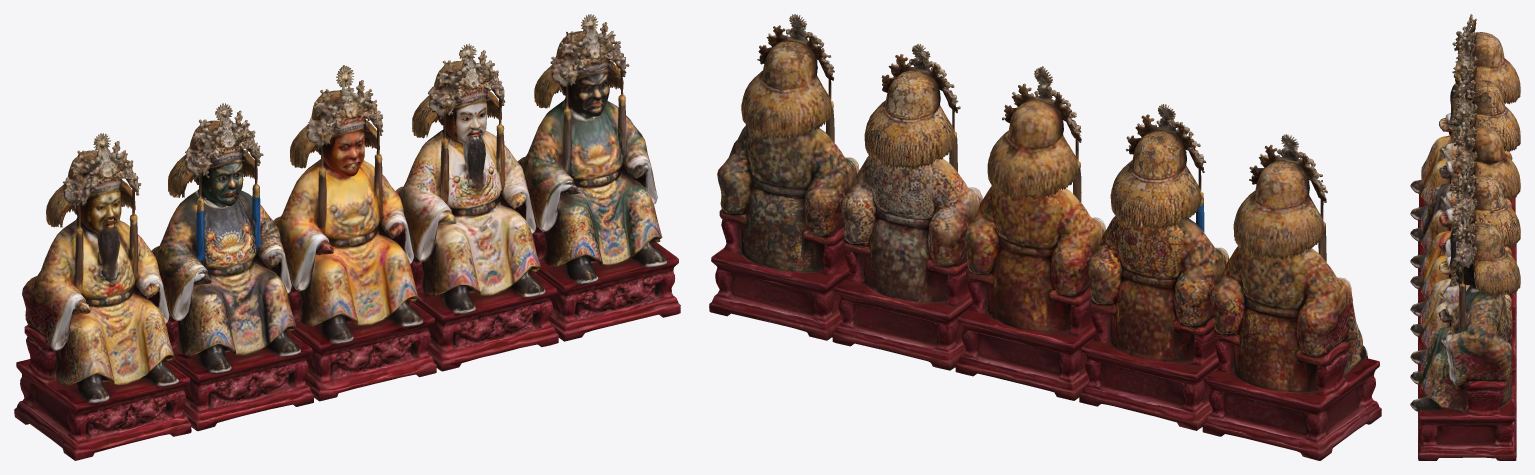
Rendered from 五福大帝群像.glb.
The picture shows the model from 3 angles, left to right: view 1: azimuth 30°, elevation 25°; view 2: azimuth 150°, elevation 25°; view 3: azimuth 270°, elevation 25°; orthographic projection. The views are drawn at different scales.
Parts seen in each view (by area): view 1: tripo_node_ae3f2e43-b230-499a-804f-fb8f080878a0; view 2: tripo_node_ae3f2e43-b230-499a-804f-fb8f080878a0; view 3: tripo_node_ae3f2e43-b230-499a-804f-fb8f080878a0.
Part boxes in pixels (x1,y1,x2,y2): tripo_node_ae3f2e43-b230-499a-804f-fb8f080878a0: [14, 14, 680, 460]; tripo_node_ae3f2e43-b230-499a-804f-fb8f080878a0: [709, 14, 1381, 460]; tripo_node_ae3f2e43-b230-499a-804f-fb8f080878a0: [1410, 14, 1520, 460].
Bounding box in the file's own units: 0.9804 × 0.4563 × 0.1914.
Materials: 1 (1 with a texture image).
